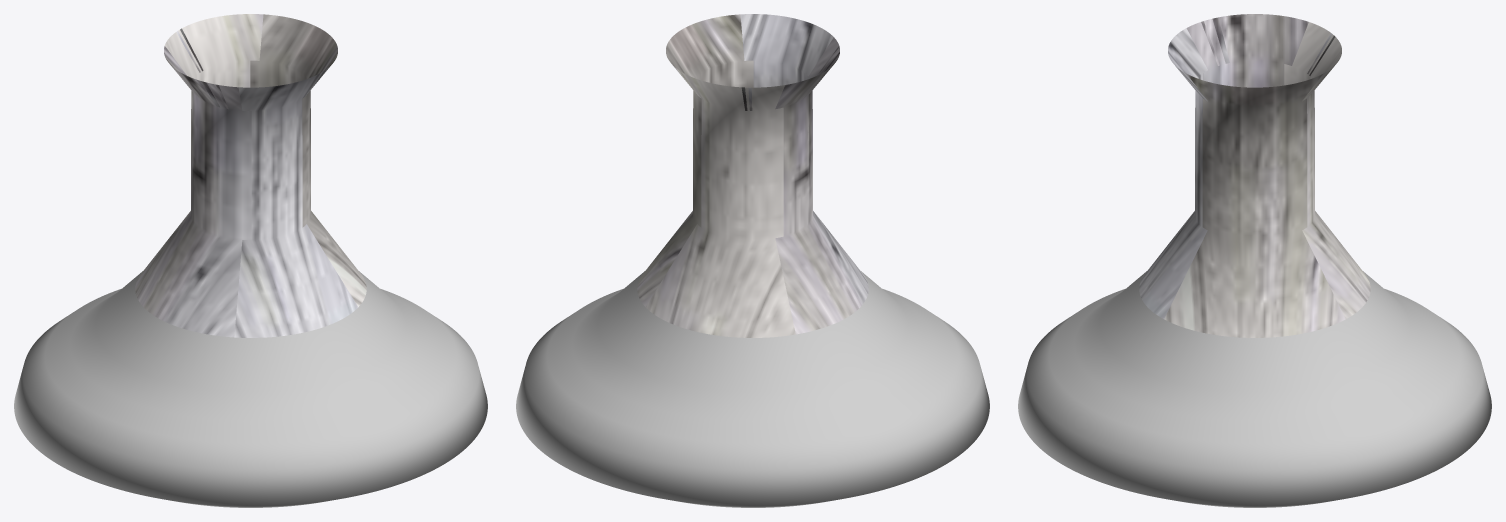
File: ExplodingBomb.fbx
3 renders of one model, left to right at view 1: azimuth 30°, elevation 25°; view 2: azimuth 150°, elevation 25°; view 3: azimuth 270°, elevation 25°, orthographic.
Parts seen in each view (by area): view 1: pPipe2; view 2: pPipe2; view 3: pPipe2.
Boxes of the visible parts, x1,y1,x2,y2 form: pPipe2: (14, 14, 487, 507); pPipe2: (516, 14, 989, 507); pPipe2: (1018, 14, 1491, 507).
Size of the model in its own units: 111 by 99.32 by 111.
